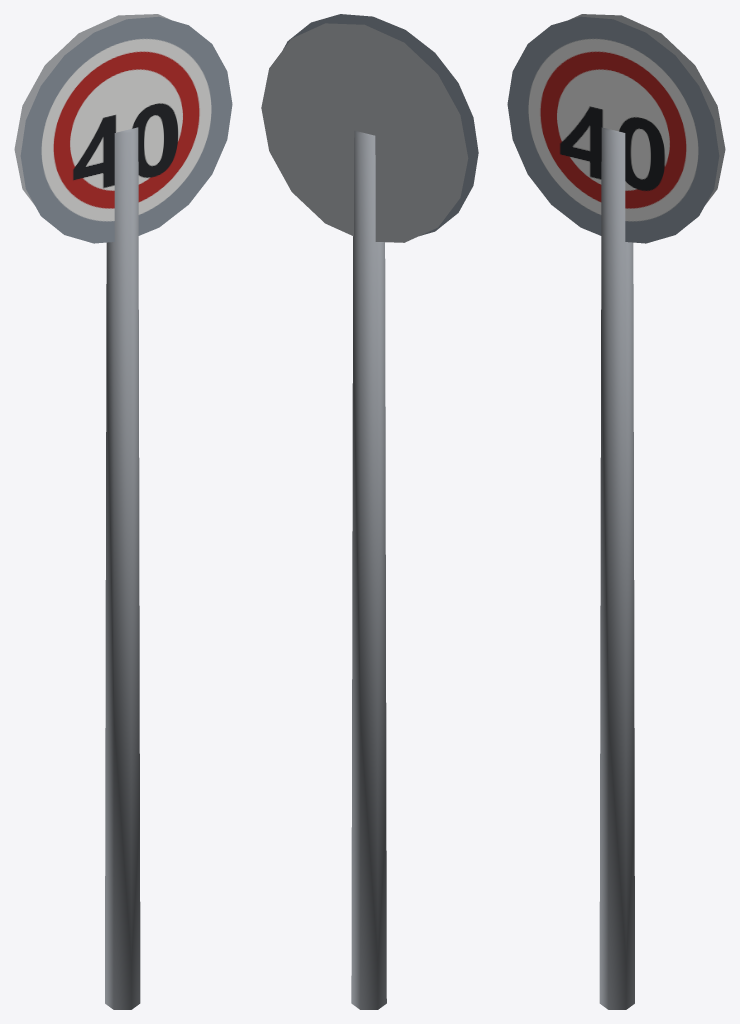
The model's file is prop-sign-speed.glb.
The picture shows the model from 3 angles, left to right: view 1: azimuth 30°, elevation 25°; view 2: azimuth 150°, elevation 25°; view 3: azimuth 330°, elevation 25°; orthographic projection.
Visible parts, largest first — view 1: sign-face, sign-post, sign-back; view 2: sign-back, sign-post, sign-face; view 3: sign-face, sign-post, sign-back.
Boxes of the visible parts, x1=… form: sign-face: x1=20, y1=16, x2=232, y2=243; sign-post: x1=105, y1=127, x2=140, y2=1009; sign-back: x1=14, y1=14, x2=170, y2=204; sign-back: x1=261, y1=23, x2=468, y2=242; sign-post: x1=351, y1=130, x2=386, y2=1009; sign-face: x1=283, y1=14, x2=478, y2=236; sign-face: x1=507, y1=16, x2=719, y2=243; sign-post: x1=599, y1=127, x2=634, y2=1009; sign-back: x1=569, y1=14, x2=725, y2=204.
Bounding box in the file's own units: 0.62 × 2.76 × 0.09.
Materials: 3 (1 with a texture image).
